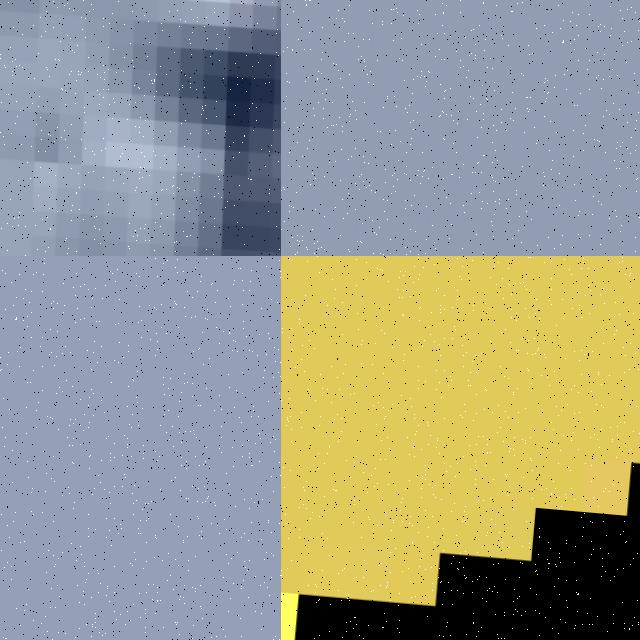drone: (0, 0, 281, 256)
